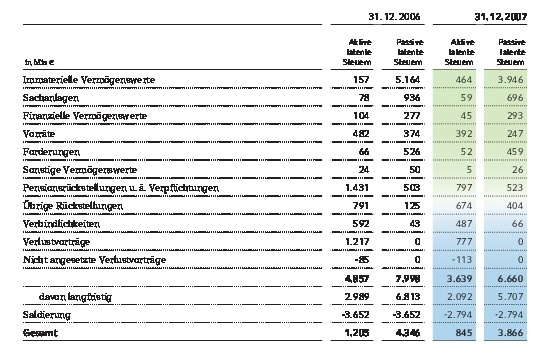table: (0, 0, 541, 353)
